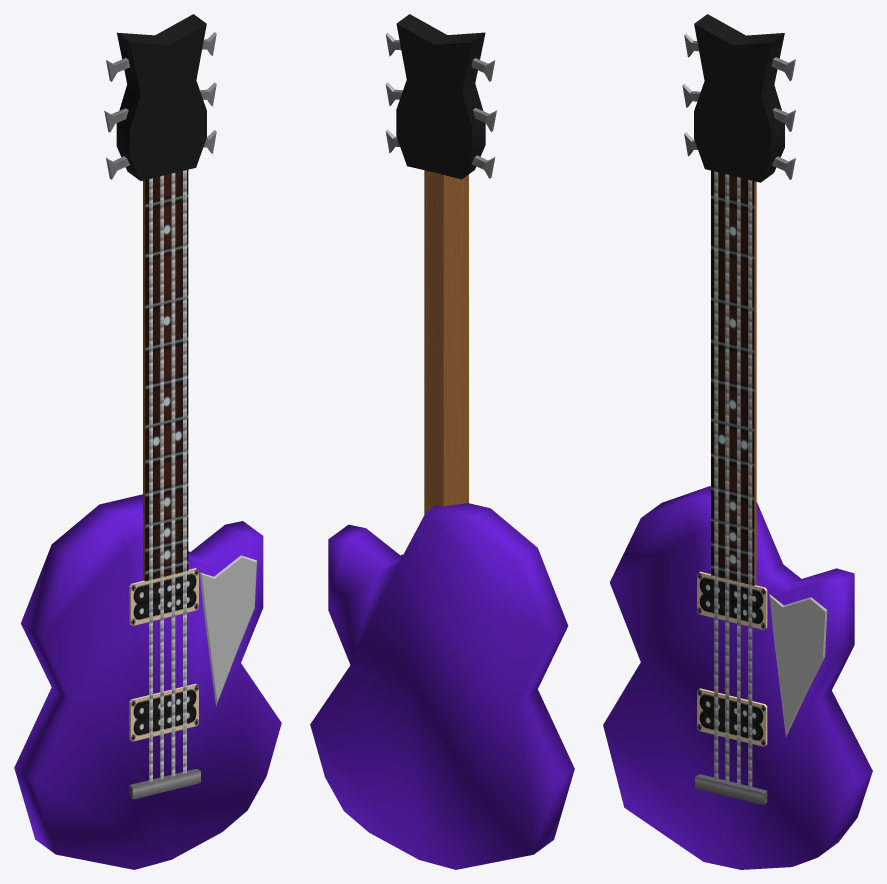
Rendered from Guitar_F.FBX.
3 renders of one model, left to right at view 1: azimuth 30°, elevation 25°; view 2: azimuth 150°, elevation 25°; view 3: azimuth 330°, elevation 25°, orthographic.
Parts seen in each view (by area): view 1: Guitar; view 2: Guitar; view 3: Guitar.
Boxes of the visible parts, x1,y1,x2,y2 form: Guitar: (14, 14, 281, 869); Guitar: (310, 14, 574, 869); Guitar: (603, 14, 872, 869).
Size of the model in its own units: 64.57 by 208 by 10.83.
